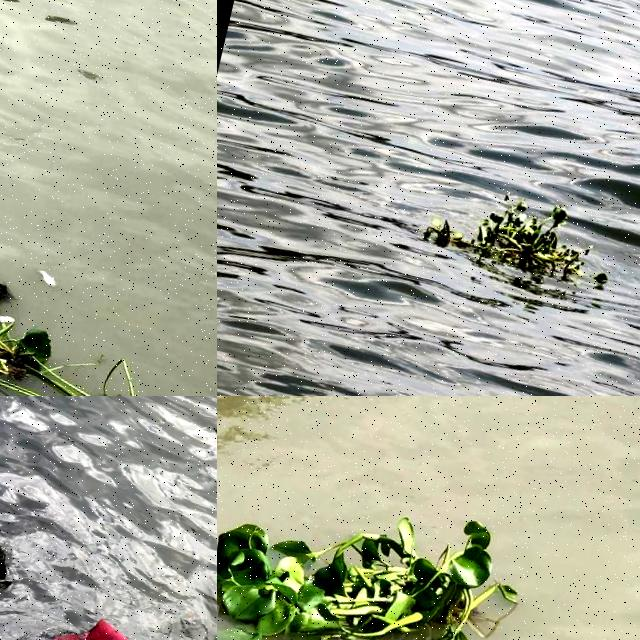water-hyacinth: (218, 457, 537, 640), (424, 181, 630, 292), (1, 278, 136, 393)
